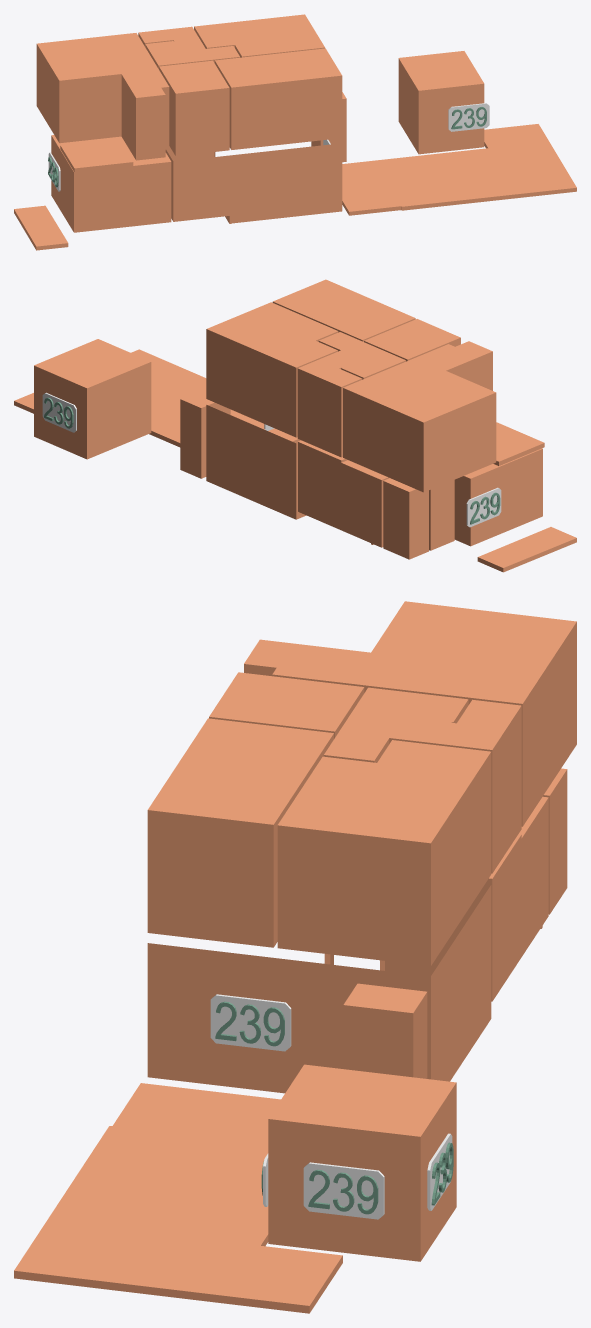
3 views of the same model, one above another, from view 1: azimuth 30°, elevation 25°; view 2: azimuth 150°, elevation 25°; view 3: azimuth 270°, elevation 25° (orthographic). The views are drawn at different scales.
Visible parts, largest first — view 1: g_11, g_14, g_1, g_7, g_0, g_5, g_9, g_6, g_12, g_8, g_13, g_18 (+2 smaller); view 2: g_11, g_6, g_5, g_2, g_1, g_0, g_7, g_10, g_14, g_3, g_4, g_9 (+5 smaller); view 3: g_14, g_6, g_1, g_7, g_5, g_11, g_2, g_4, g_9, g_10, g_8, g_30 (+2 smaller).
Part boxes in pixels (left/top/right/bottom): g_11: left=36, top=33, right=169, bottom=160; g_14: left=342, top=124, right=576, bottom=215; g_1: left=165, top=143, right=342, bottom=223; g_7: left=214, top=48, right=342, bottom=149; g_0: left=51, top=135, right=171, bottom=232; g_5: left=398, top=51, right=484, bottom=154; g_9: left=159, top=60, right=229, bottom=155; g_6: left=194, top=14, right=324, bottom=57; g_12: left=60, top=138, right=133, bottom=172; g_8: left=145, top=39, right=239, bottom=69; g_13: left=14, top=205, right=68, bottom=250; g_18: left=448, top=103, right=489, bottom=131; g_11: left=343, top=341, right=496, bottom=492; g_6: left=206, top=302, right=338, bottom=437; g_5: left=34, top=339, right=151, bottom=459; g_2: left=298, top=440, right=454, bottom=550; g_1: left=206, top=405, right=306, bottom=519; g_0: left=454, top=448, right=542, bottom=546; g_7: left=272, top=279, right=415, bottom=341; g_10: left=297, top=358, right=362, bottom=457; g_14: left=14, top=349, right=300, bottom=447; g_3: left=383, top=478, right=428, bottom=559; g_4: left=180, top=388, right=230, bottom=478; g_9: left=364, top=319, right=460, bottom=361; g_14: left=14, top=1083, right=342, bottom=1313; g_6: left=277, top=740, right=491, bottom=966; g_1: left=147, top=885, right=491, bottom=1093; g_7: left=147, top=718, right=333, bottom=947; g_5: left=268, top=1064, right=456, bottom=1261; g_11: left=244, top=601, right=576, bottom=826; g_2: left=385, top=796, right=548, bottom=1001; g_4: left=343, top=983, right=427, bottom=1078; g_9: left=209, top=672, right=364, bottom=738; g_10: left=435, top=699, right=521, bottom=873; g_8: left=323, top=687, right=468, bottom=762; g_30: left=210, top=994, right=291, bottom=1051.
Bounding box in the file's own units: 20.07 × 5.35 × 9.9.
